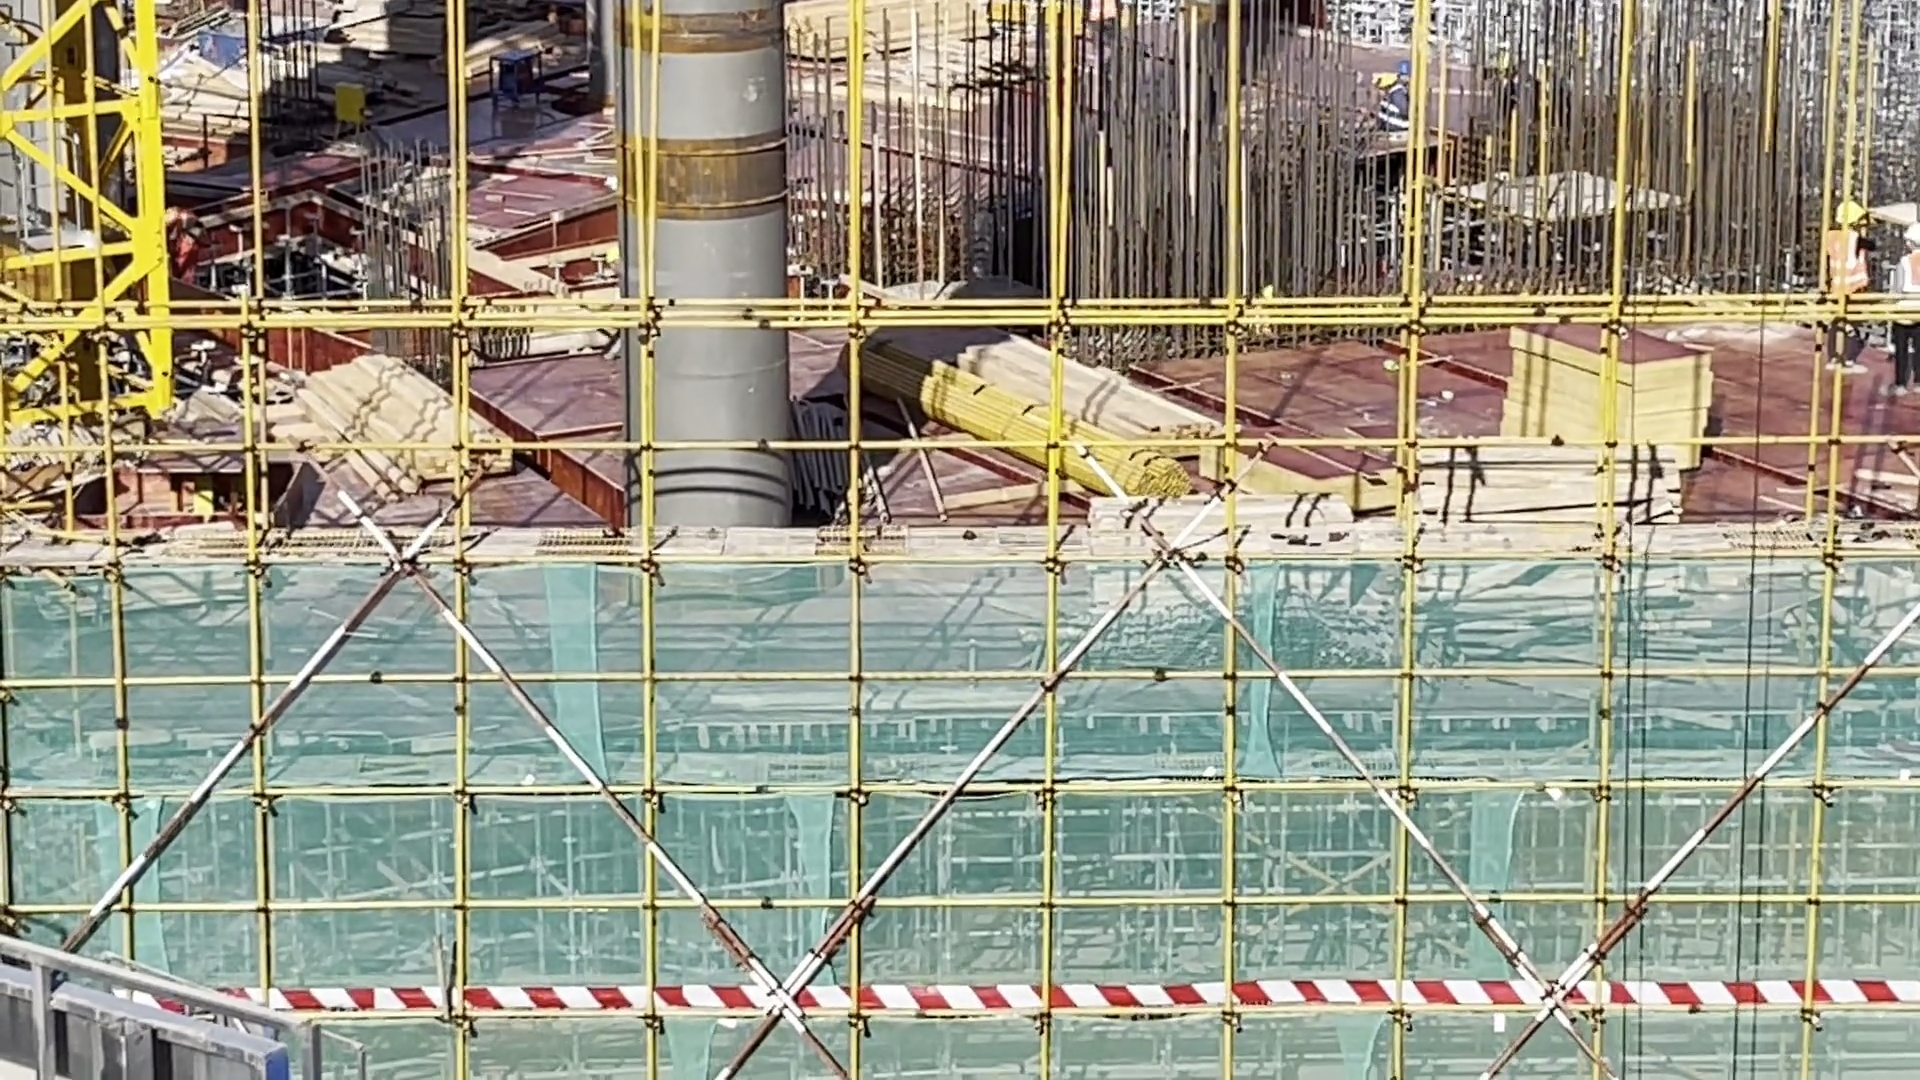helmet: (1846, 199, 1868, 229), (1399, 61, 1431, 81), (1508, 61, 1526, 76), (1904, 217, 1920, 232)
person: (1818, 198, 1874, 368), (1886, 240, 1920, 386), (1391, 55, 1442, 145), (1487, 44, 1553, 104), (1082, 1, 1126, 71), (168, 198, 204, 278)
vest: (1831, 232, 1863, 296), (1896, 239, 1916, 323), (1378, 86, 1417, 127), (1515, 73, 1555, 105), (168, 204, 196, 248), (1081, 1, 1128, 25)
